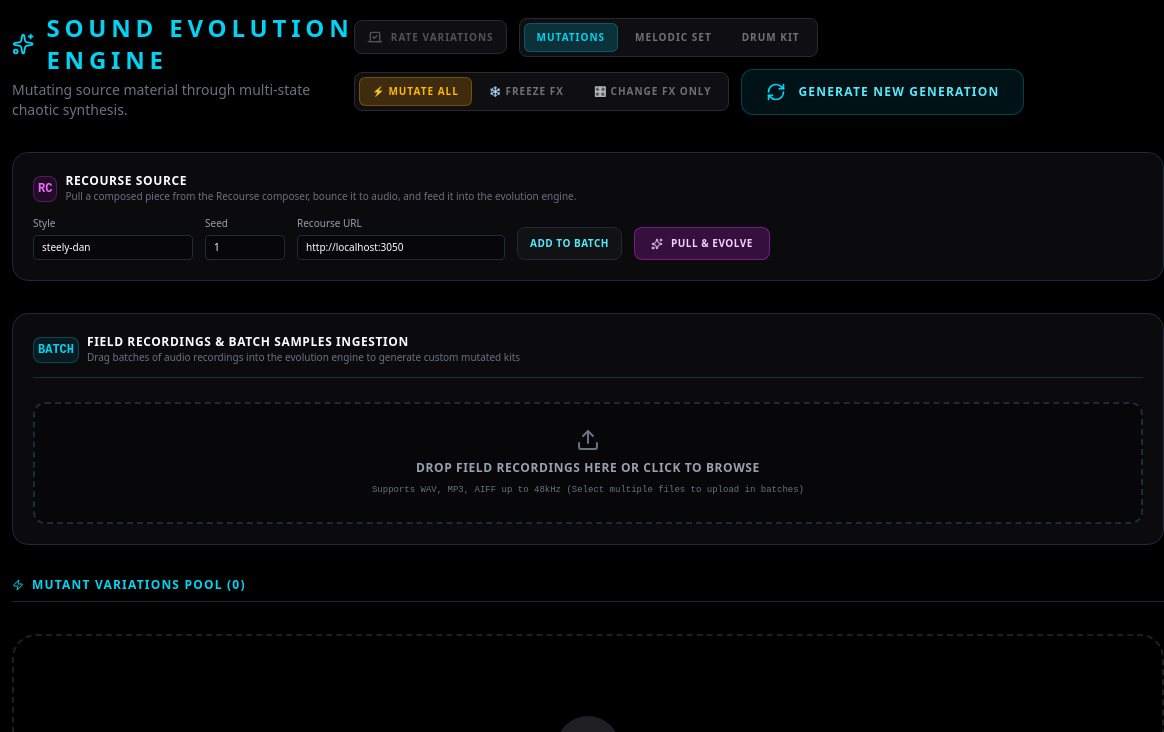
EvolutionPanel coverage › surfaces an AudioContext-unavailable error on Pull & Evolve
Click the button "Pull & Evolve": (702, 244) [634, 227, 770, 260]
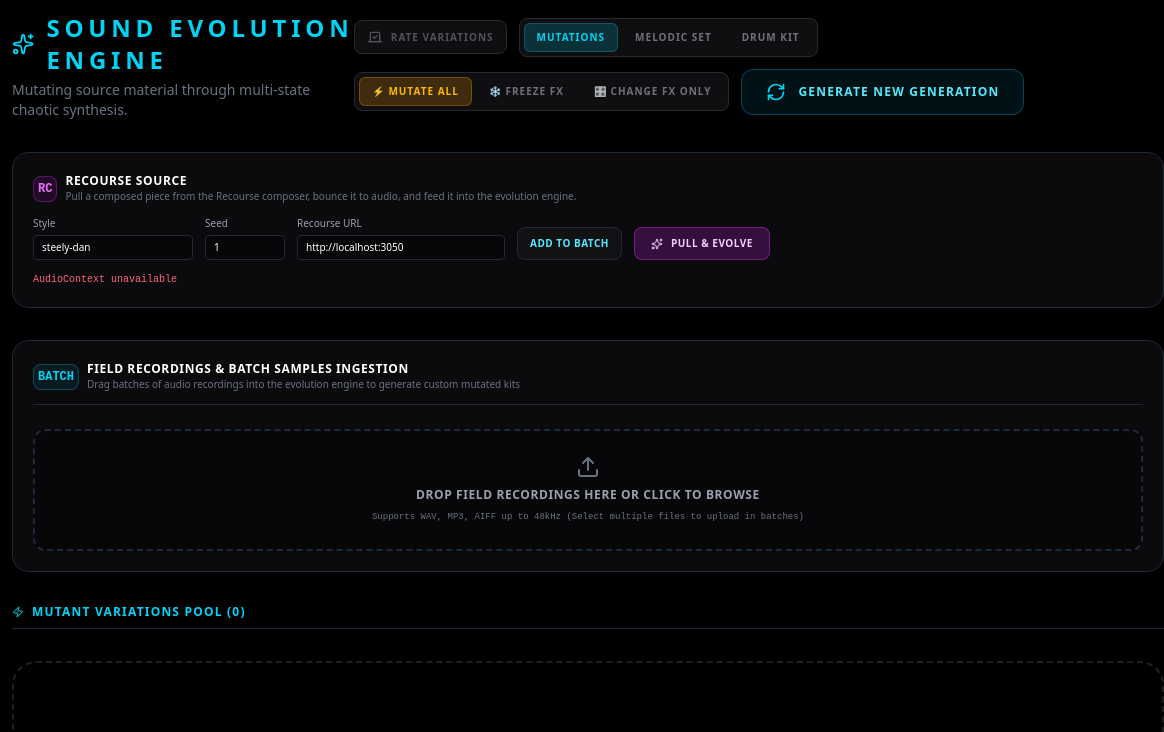
Check: the text "AudioContext unavailable" is shown, box [33, 274, 177, 285]
